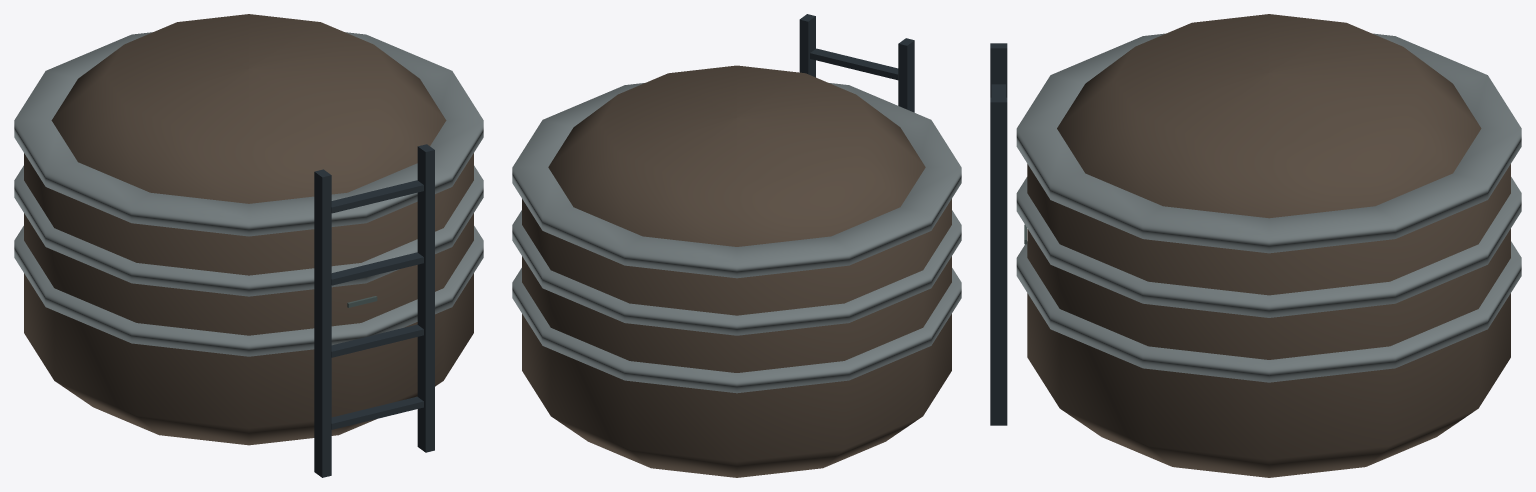
Rendered from ladle-3.glb.
3 views of the same model, side by side, from view 1: azimuth 30°, elevation 25°; view 2: azimuth 150°, elevation 25°; view 3: azimuth 270°, elevation 25° (orthographic). The views are drawn at different scales.
Parts seen in each view (by area): view 1: ladle/2/KR-230-3; view 2: ladle/2/KR-230-3; view 3: ladle/2/KR-230-3.
Boxes of the visible parts, box(x1,y1,x2,y2) form: ladle/2/KR-230-3: box(14, 14, 483, 477); ladle/2/KR-230-3: box(512, 14, 961, 477); ladle/2/KR-230-3: box(990, 14, 1521, 477).
Bounding box in the file's own units: 3.54 × 2.5 × 3.73.
